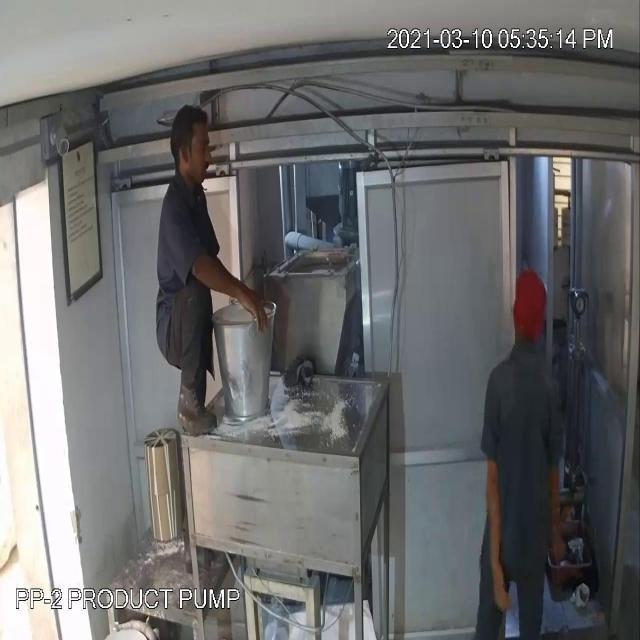No_Gloves: (35, 112, 499, 534)
